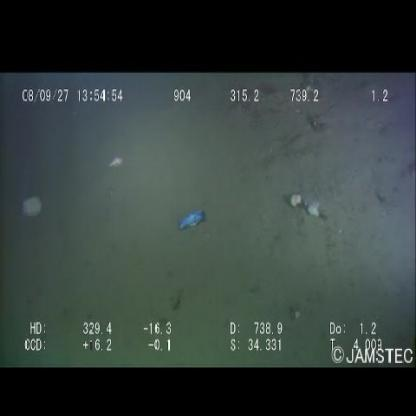Rác: (174, 204, 210, 240)
